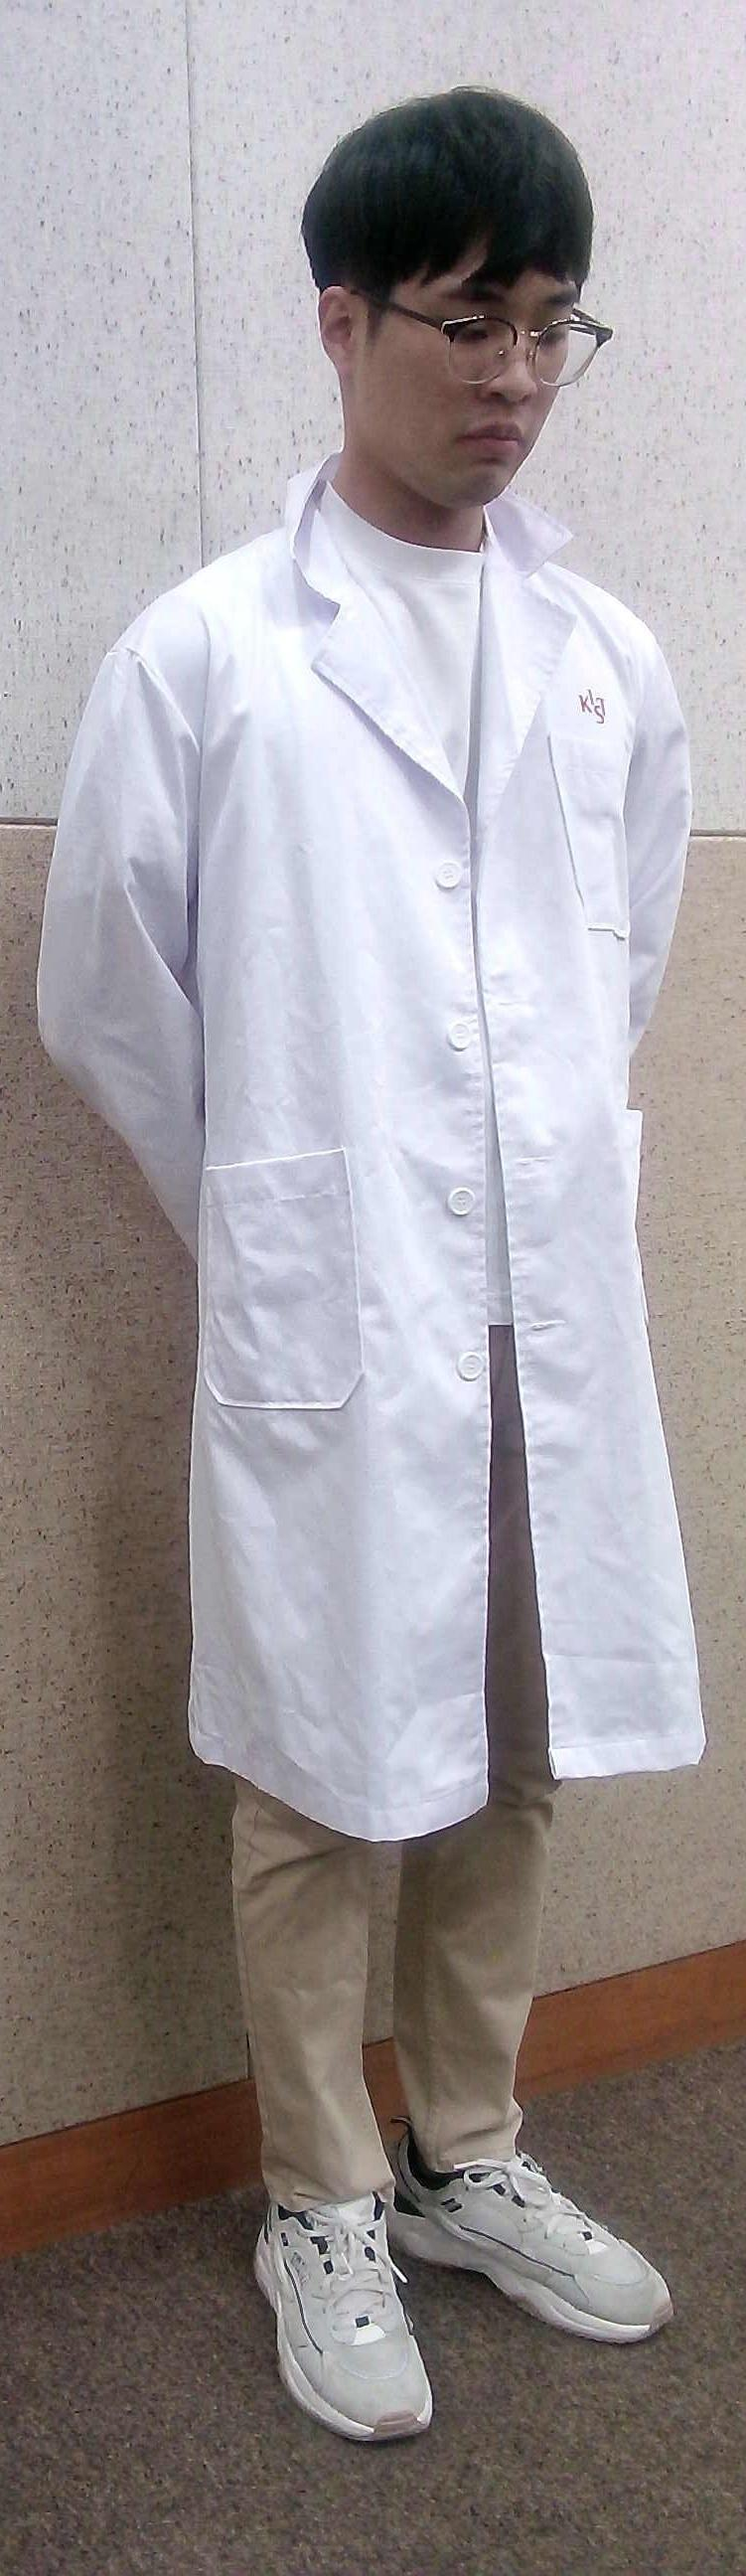lab_coat: (61, 522, 733, 1787)
